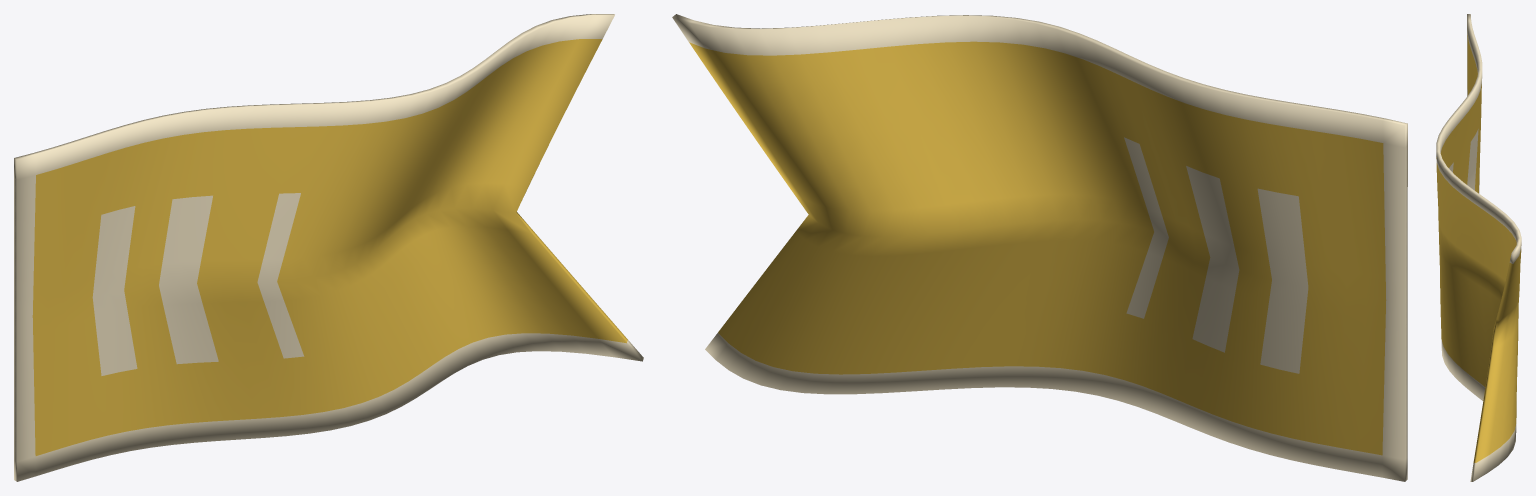
Rendered from flag-2.glb.
The picture shows the model from 3 angles, left to right: view 1: azimuth 30°, elevation 25°; view 2: azimuth 150°, elevation 25°; view 3: azimuth 270°, elevation 25°; orthographic projection. The views are drawn at different scales.
Visible parts, largest first — view 1: Captain standard; view 2: Captain standard; view 3: Captain standard.
Part boxes in pixels (x1=…): Captain standard: x1=14, y1=14, x2=643, y2=481; Captain standard: x1=672, y1=14, x2=1407, y2=481; Captain standard: x1=1436, y1=14, x2=1521, y2=481.
Size of the model in its own units: 1.6 by 0.8638 by 0.2662.
